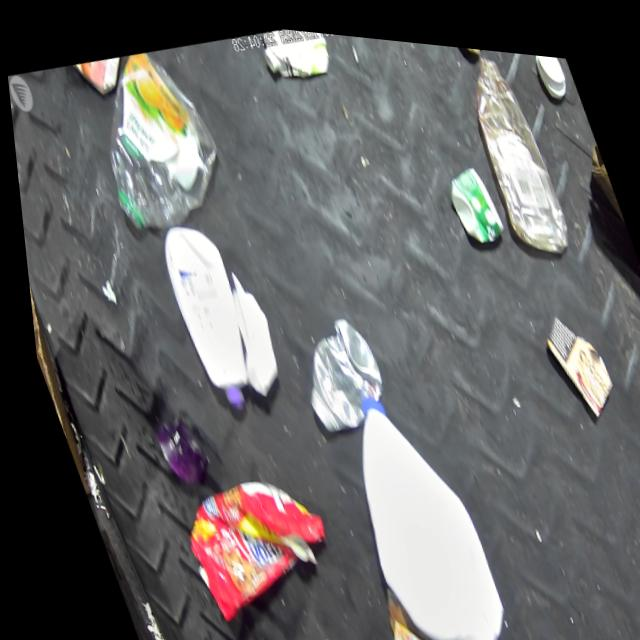can: (436, 137, 512, 252), (344, 594, 456, 640), (268, 607, 350, 640)
milk_jug: (306, 364, 517, 640)
